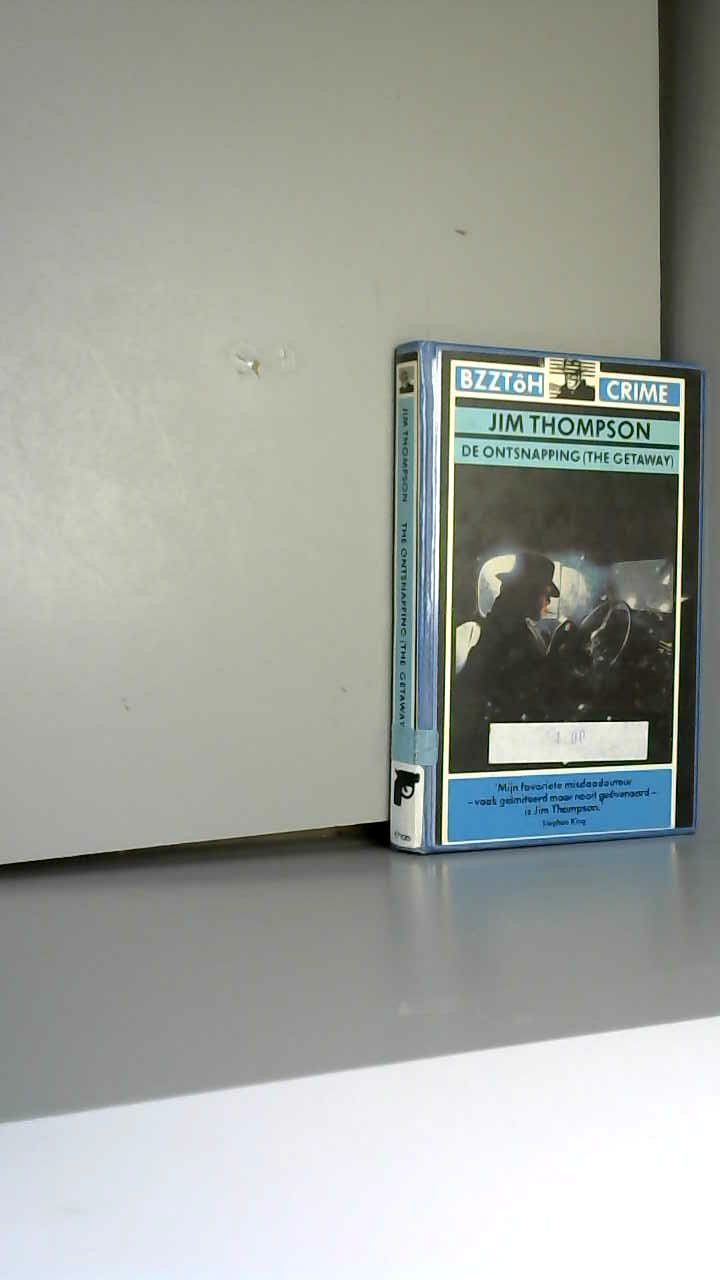book: (360, 310, 719, 898)
